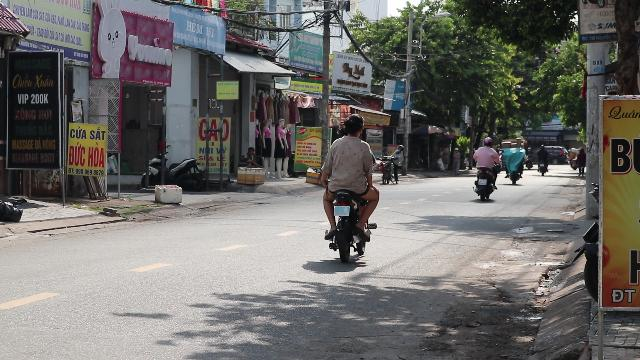motorcyclist: (318, 114, 382, 262)
nohelmet: (344, 114, 364, 136)
